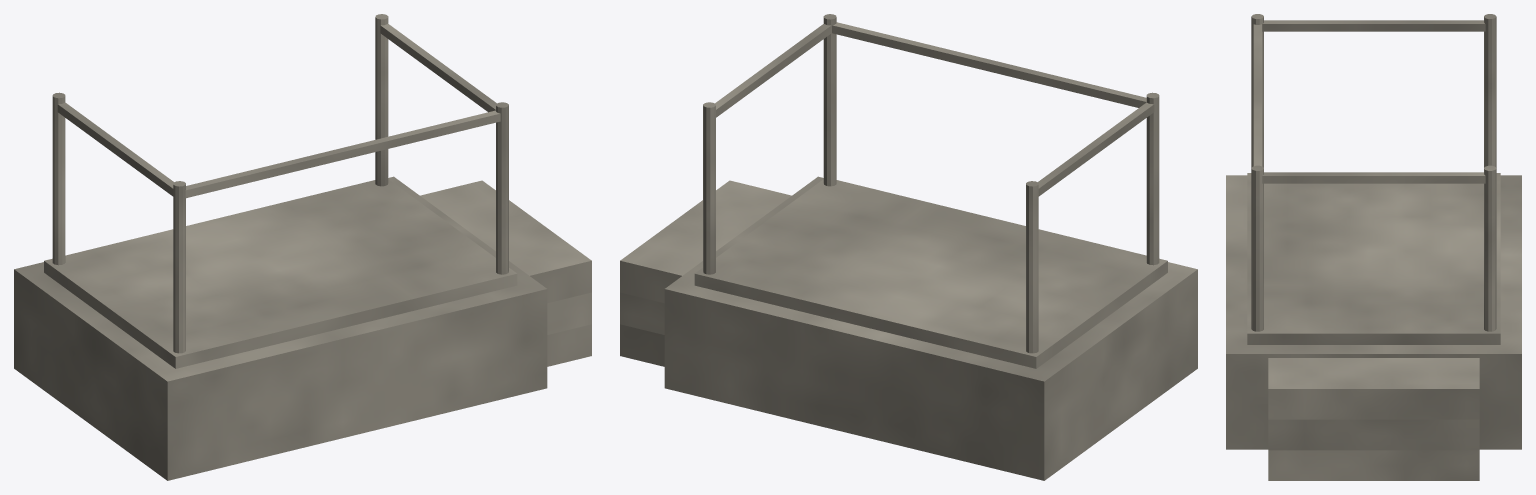
File: command_podium.glb
3 renders of one model, left to right at view 1: azimuth 30°, elevation 25°; view 2: azimuth 150°, elevation 25°; view 3: azimuth 270°, elevation 25°, orthographic. The views are drawn at different scales.
Parts seen in each view (by area): view 1: command_podium; view 2: command_podium; view 3: command_podium.
Part boxes in pixels (x1,y1,x2,y2): command_podium: (14,14,591,480); command_podium: (620,14,1197,480); command_podium: (1226,14,1521,480).
Size of the model in its own units: 2.35 by 1.4 by 1.4.
1 material, 1 textured.
